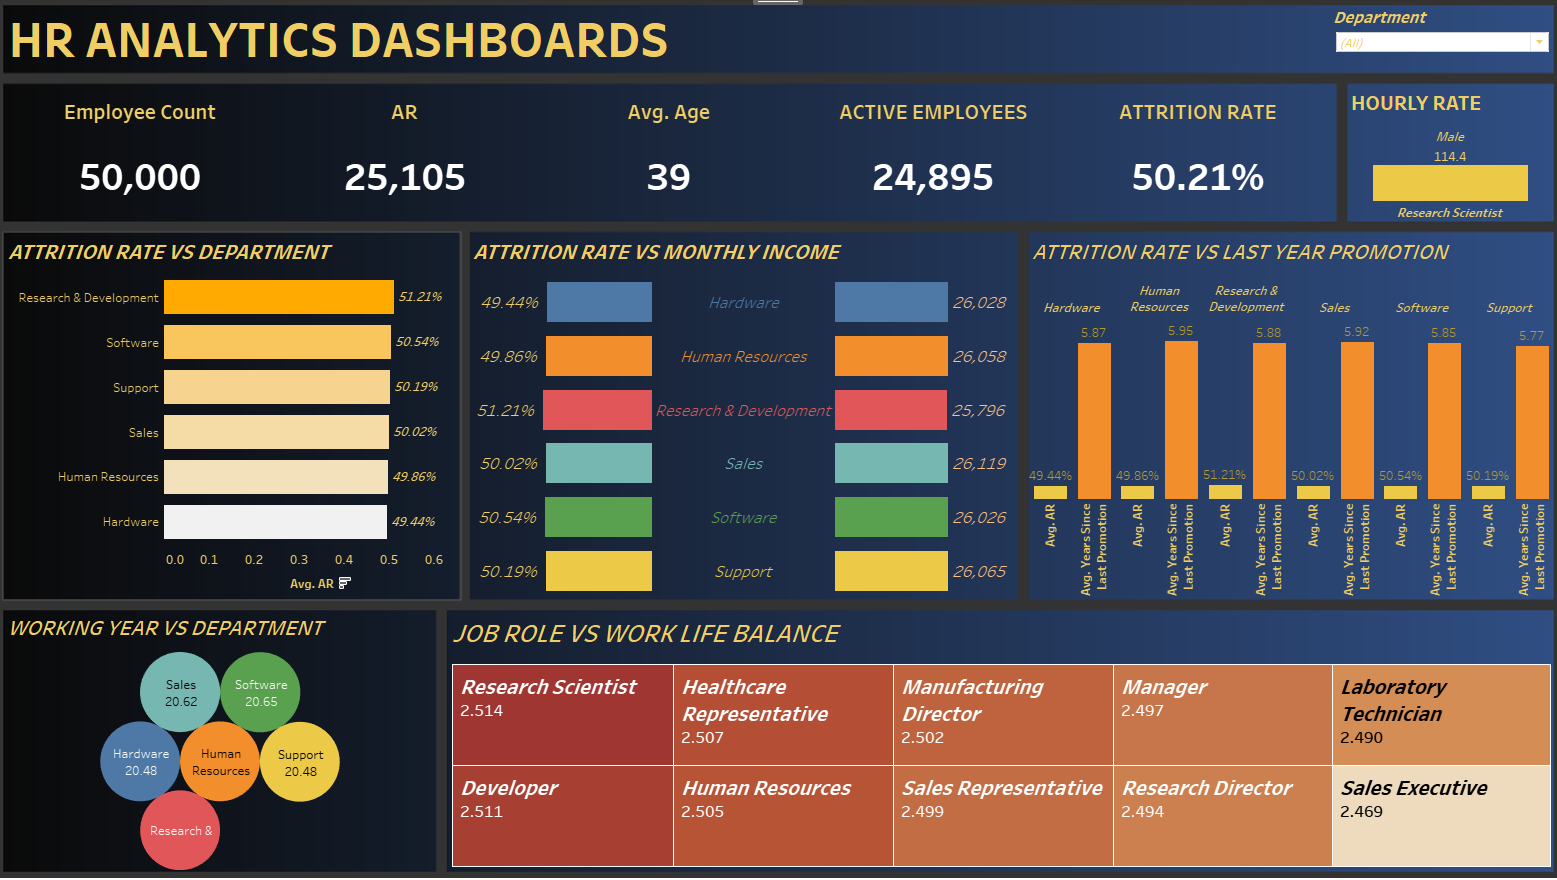

The dashboard page shown, as its layout file describes it:
{"tool":"tableau","page":{"name":"Dashboard 1","canvas":[1000,1000],"units":"permille","ordinal":0},"visuals":[{"type":"image","param":"Image/Slide4.PNG","box":[4.7,8.8,990.6,982.3]},{"type":"text","box":[48,19.9,533.1,74.1]},{"type":"filter","title":"KPI 1","param":"[federated.0gqvzi80anlmew12rq1me12a2xwr].[none:Department:nk]","box":[824.5,22.1,128.2,73]},{"type":"worksheet","title":"KPI 2","mark":"Automatic","rows":["HourlyRate"],"cols":["Gender","JobRole"],"box":[832.6,108.4,121.1,152.7]},{"type":"worksheet","title":"KPIS","mark":"Automatic","box":[49.1,113.9,773.6,141.6]},{"type":"worksheet","title":"KPI 1","mark":"Automatic","rows":["Department"],"cols":["AR"],"box":[46.8,273.2,266.8,404.9]},{"type":"worksheet","title":"KPI 3","mark":"Automatic","rows":["Department"],"cols":["AR","Calculation_1502232008578183169","MonthlyIncome"],"box":[318.9,273.2,321.2,403.8]},{"type":"worksheet","title":"KPI 6","mark":"Automatic","cols":["Department"],"box":[646,273.2,307.8,404.9]},{"type":"worksheet","title":"KPI 4","mark":"Circle","box":[46.2,689.2,254,288.7]},{"type":"worksheet","title":"KPI 5","mark":"Automatic","box":[306.6,692.5,647.2,286.5]}]}

Visuals, with their boxes on the dashboard's canvas, which has no fixed pixel size, in thousandths of its width and height (x1, y1, x2, y2). These are canvas units, not pixel positions in the 1557x880 screenshot, which may show the page scaled, cropped or inside an application window:
image: rect(5, 9, 995, 991)
text: rect(48, 20, 581, 94)
"KPI 1" filter: rect(824, 22, 953, 95)
"KPI 2" worksheet: rect(833, 108, 954, 261)
"KPIS" worksheet: rect(49, 114, 823, 256)
"KPI 1" worksheet: rect(47, 273, 314, 678)
"KPI 3" worksheet: rect(319, 273, 640, 677)
"KPI 6" worksheet: rect(646, 273, 954, 678)
"KPI 4" worksheet (Circle marks): rect(46, 689, 300, 978)
"KPI 5" worksheet: rect(307, 692, 954, 979)
